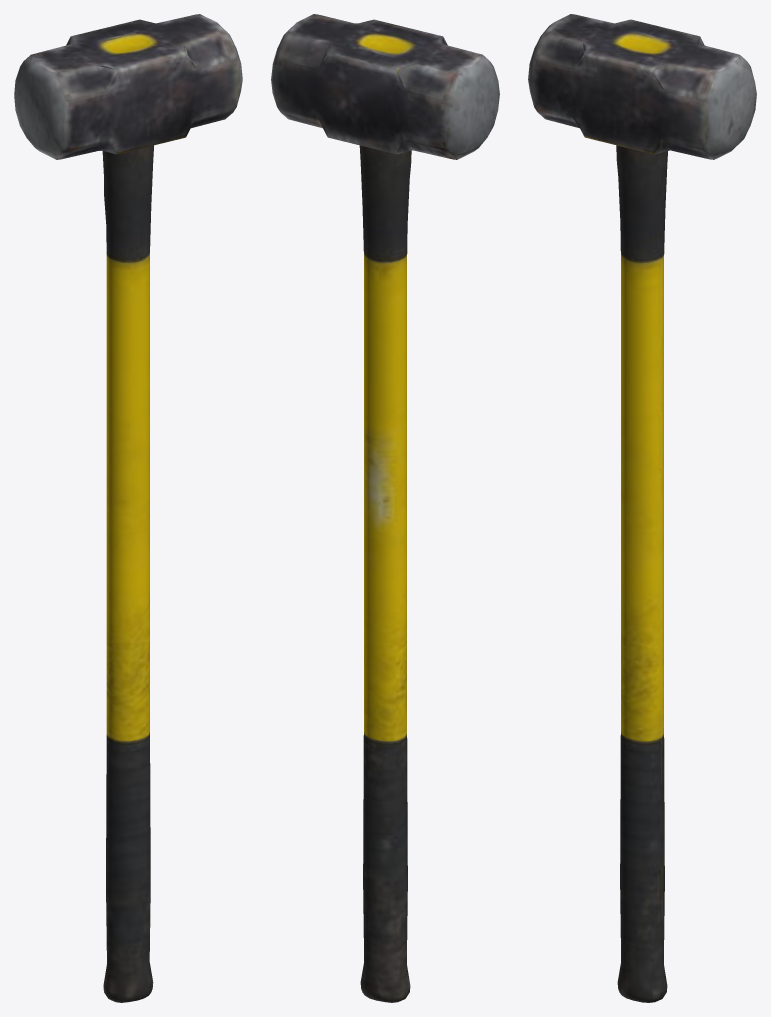
The model's file is sledgehammer_01.glb.
3 views of the same model, side by side, from view 1: azimuth 30°, elevation 25°; view 2: azimuth 150°, elevation 25°; view 3: azimuth 330°, elevation 25° (orthographic).
Parts seen in each view (by area): view 1: sledgehammer_01; view 2: sledgehammer_01; view 3: sledgehammer_01.
Part boxes in pixels (bbox=[...]): sledgehammer_01: bbox=[14, 14, 242, 1002]; sledgehammer_01: bbox=[271, 14, 499, 1002]; sledgehammer_01: bbox=[528, 14, 756, 1002].
Bounding box in the file's own units: 0.2079 × 1.01 × 0.0904.
1 material, 1 textured.
